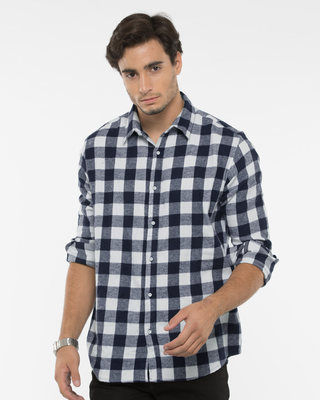shirt: (46, 105, 293, 391)
